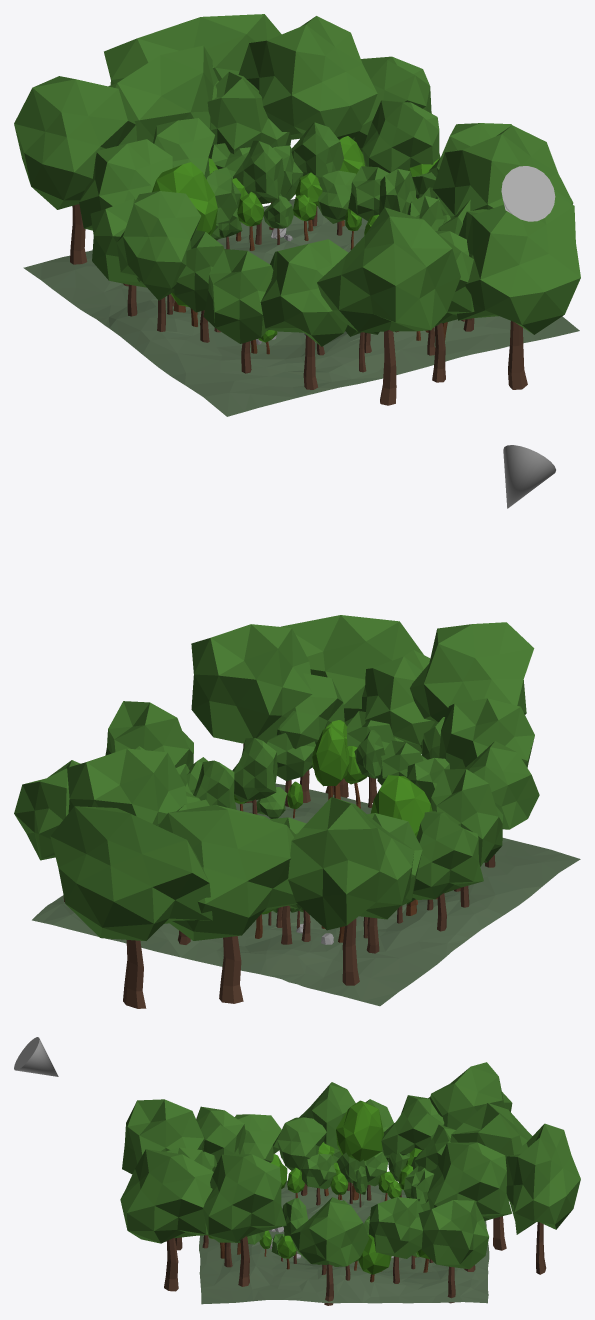
Rendered from Terreno.fbx.
3 renders of one model, top to bottom at view 1: azimuth 30°, elevation 25°; view 2: azimuth 150°, elevation 25°; view 3: azimuth 270°, elevation 25°, orthographic. The views are drawn at different scales.
Visible parts, largest first — view 1: Árboles, Terreno, pCone1; view 2: Árboles, Terreno, pCone1; view 3: Árboles, Terreno, pCone1.
Boxes of the visible parts, x1=… form: Árboles: x1=14, y1=14, x2=580, y2=405; Terreno: x1=23, y1=199, x2=579, y2=416; pCone1: x1=501, y1=166, x2=555, y2=221; Árboles: x1=14, y1=615, x2=539, y2=1008; Terreno: x1=32, y1=783, x2=580, y2=1006; pCone1: x1=503, y1=445, x2=555, y2=508; Árboles: x1=120, y1=1062, x2=580, y2=1305; Terreno: x1=199, y1=1181, x2=489, y2=1304; pCone1: x1=14, y1=1037, x2=58, y2=1076.
Size of the model in its own units: 225 by 168 by 393.
